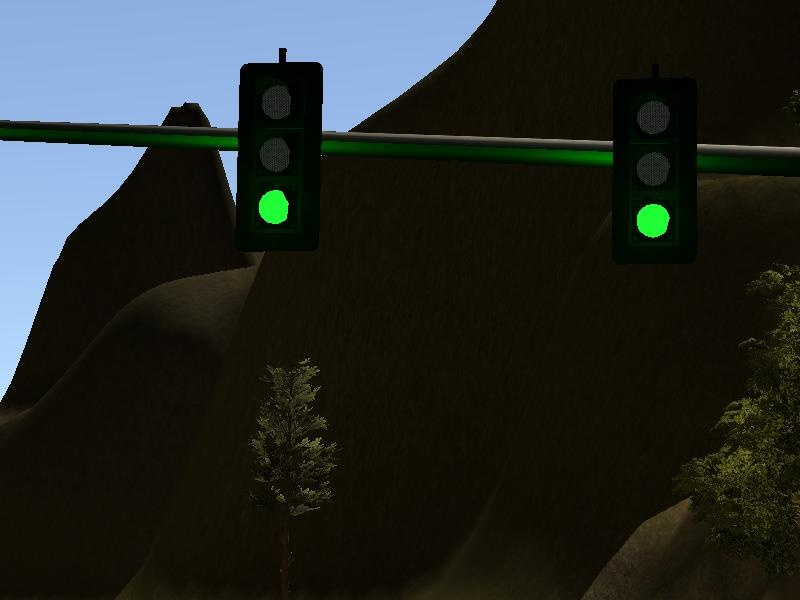Green: (232, 54, 331, 255), (607, 72, 704, 276)
